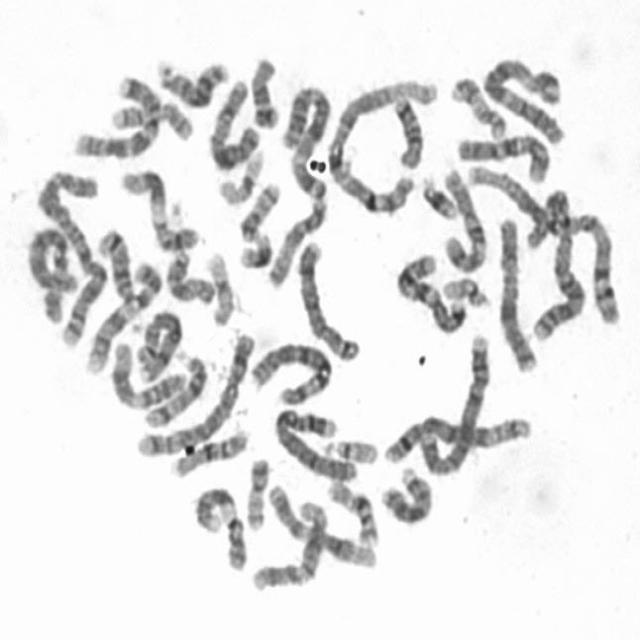A1: (455, 157, 622, 331), (321, 71, 438, 217)
A2: (30, 161, 109, 347), (522, 182, 593, 351)
A3: (477, 49, 568, 148), (275, 77, 333, 202)
B4: (414, 325, 494, 477), (268, 399, 359, 484)
B5: (130, 322, 256, 460), (375, 405, 535, 466)
C10: (436, 160, 489, 275), (452, 125, 552, 184)
C11: (113, 162, 201, 251), (105, 334, 184, 412)
C12: (260, 477, 378, 570), (245, 492, 330, 594)
C6: (245, 334, 334, 408), (21, 221, 78, 327)
C7: (68, 66, 164, 161), (390, 244, 470, 336)
C8: (291, 234, 363, 364), (128, 304, 185, 382)
C9: (80, 255, 164, 376), (188, 479, 249, 573)
D13: (150, 50, 230, 110), (374, 459, 435, 527)
D14: (137, 344, 210, 429), (91, 220, 138, 306)
D15: (260, 188, 329, 290), (160, 243, 217, 306)
E16: (166, 420, 252, 480), (322, 472, 381, 548)
E17: (445, 67, 510, 142), (104, 96, 195, 142)
E18: (387, 87, 426, 170), (244, 47, 281, 130)
F19: (211, 142, 267, 206), (200, 246, 237, 327)
F20: (234, 175, 282, 243), (241, 450, 271, 532)
G21: (415, 169, 461, 221), (233, 224, 274, 270)
G22: (437, 270, 493, 310), (327, 430, 380, 465)
X: (491, 209, 541, 374), (203, 71, 263, 171)
